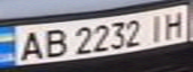2: (69, 24, 97, 56), (90, 20, 115, 53), (124, 16, 148, 47)
3: (109, 19, 130, 51)
A: (12, 28, 48, 62)
B: (36, 26, 69, 60)
H: (157, 7, 190, 39)
I: (142, 11, 172, 43)
